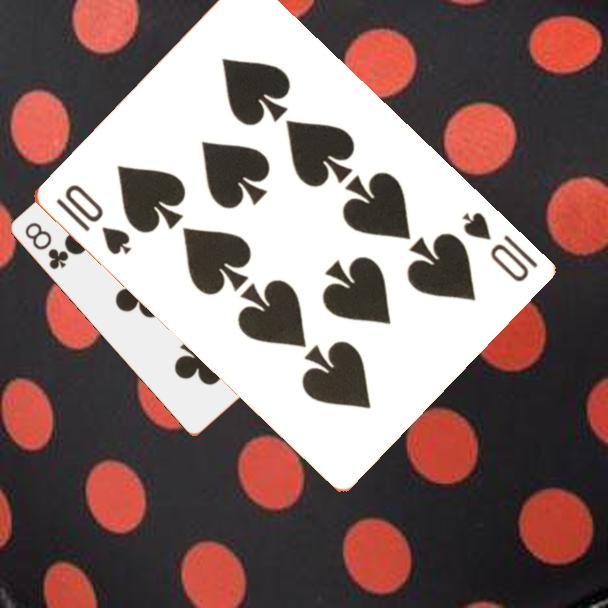c08: (22, 219, 72, 272)
s10: (51, 180, 134, 258), (458, 208, 540, 285)
